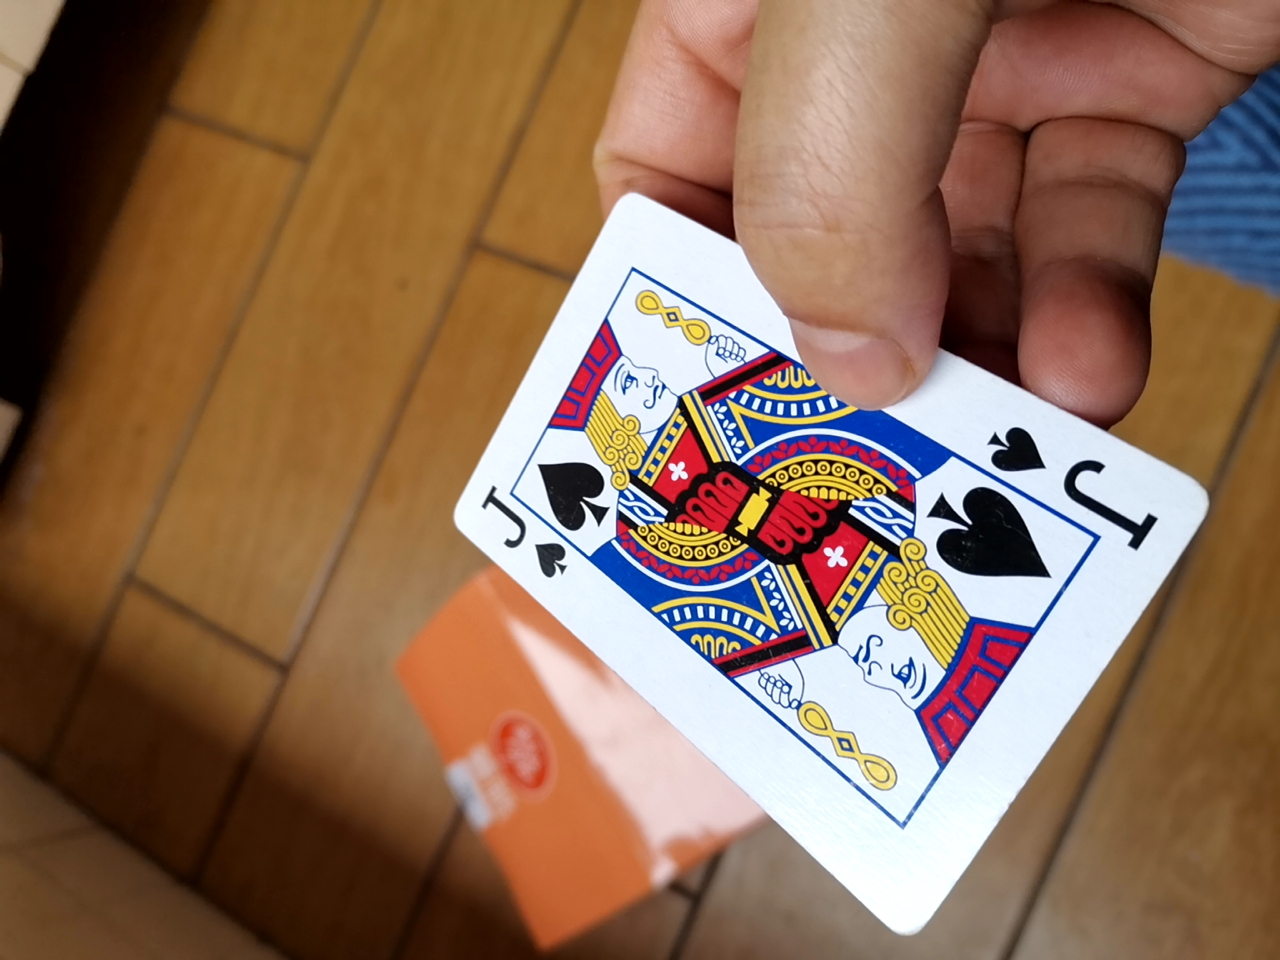ht j: (423, 161, 1194, 904)
